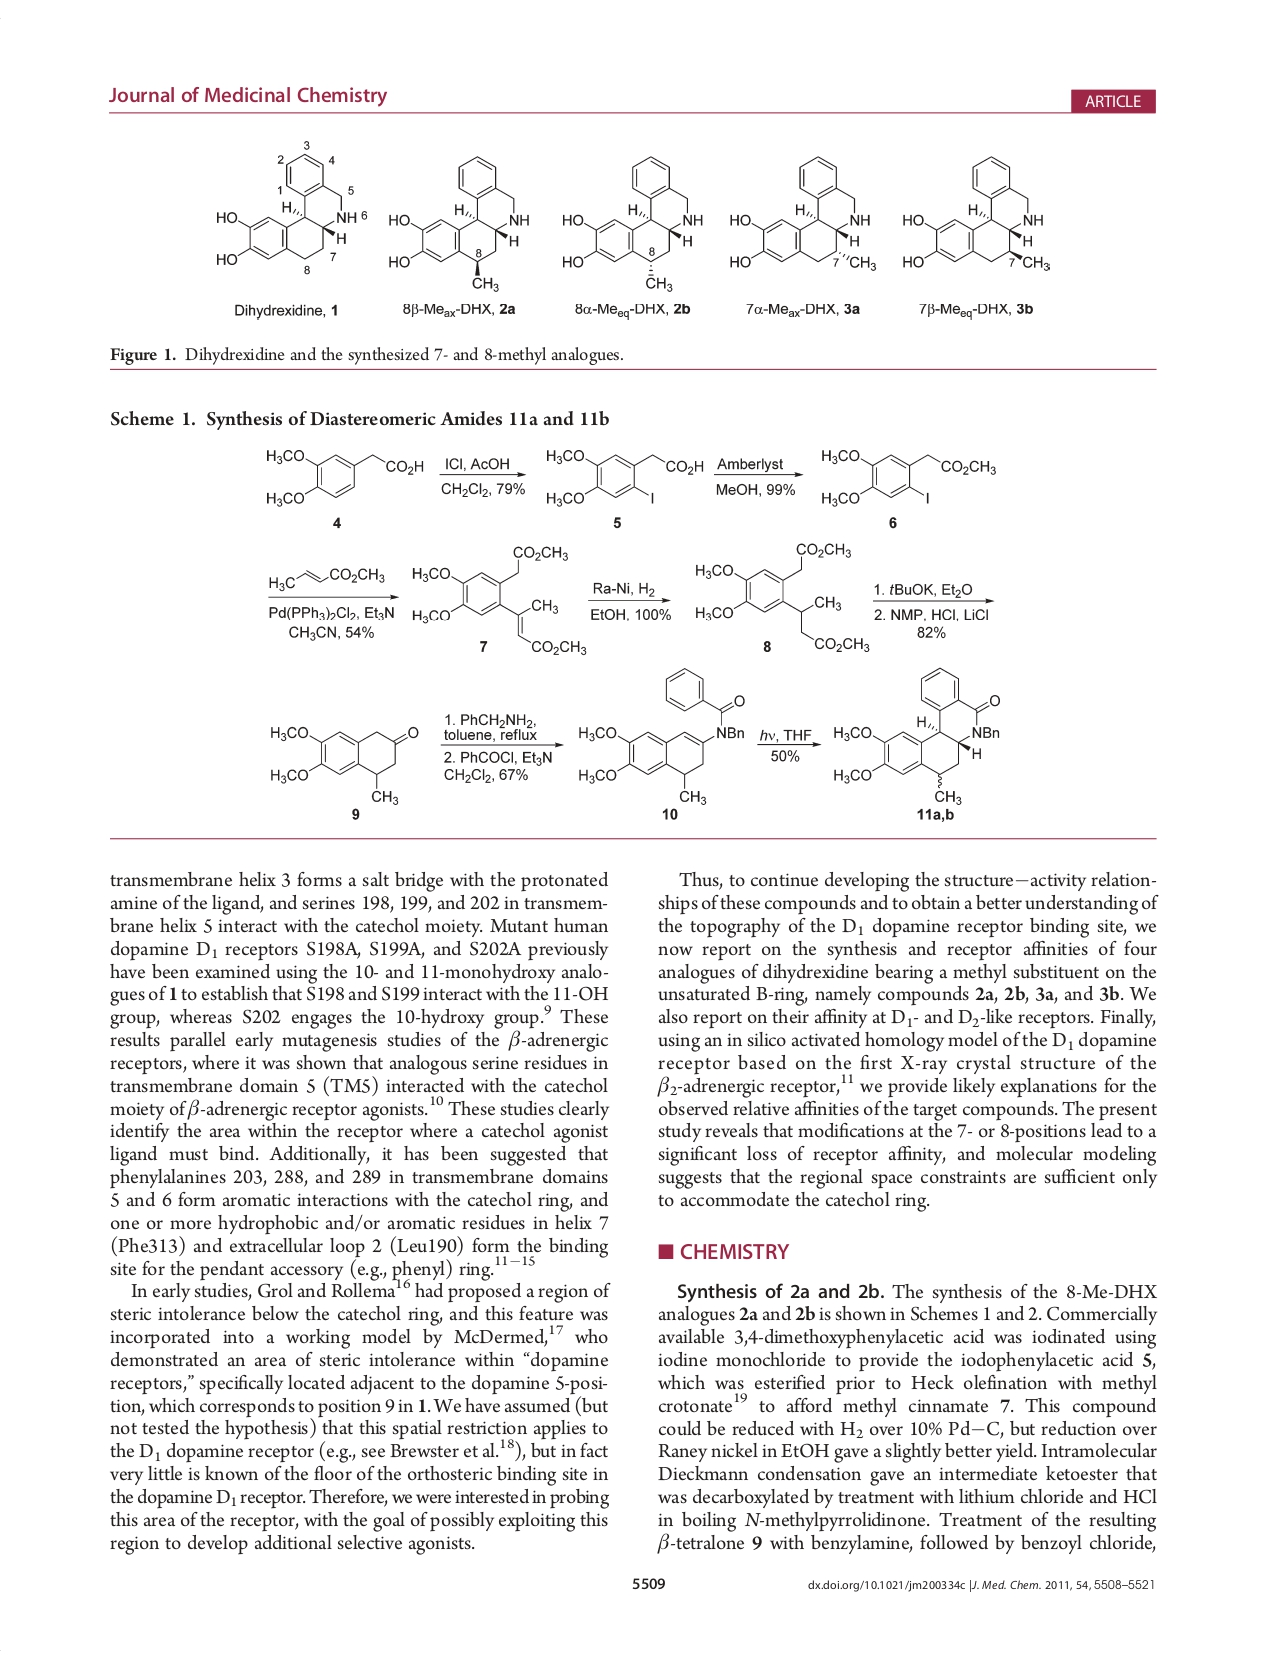exist_molecular: (576, 665, 750, 807), (831, 664, 1001, 807), (410, 540, 590, 660), (384, 153, 532, 294), (694, 539, 871, 654), (560, 152, 705, 293), (727, 154, 880, 274), (902, 153, 1052, 274), (213, 152, 359, 269), (265, 719, 422, 806), (818, 446, 997, 509), (543, 446, 706, 509), (265, 446, 426, 509), (267, 565, 387, 592)
